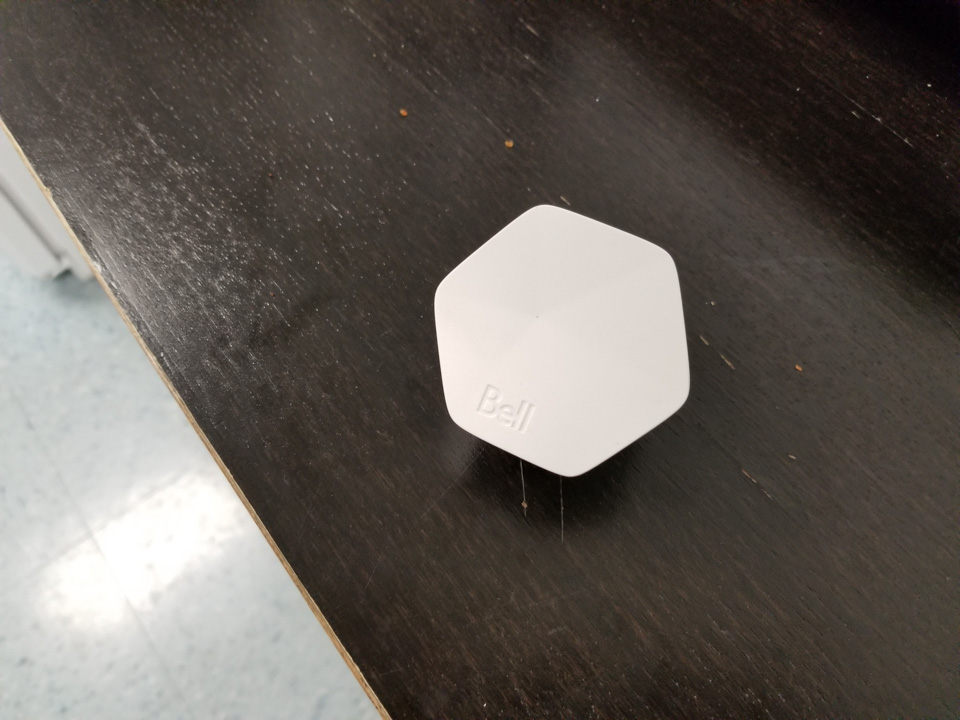pod: (427, 199, 700, 483)
